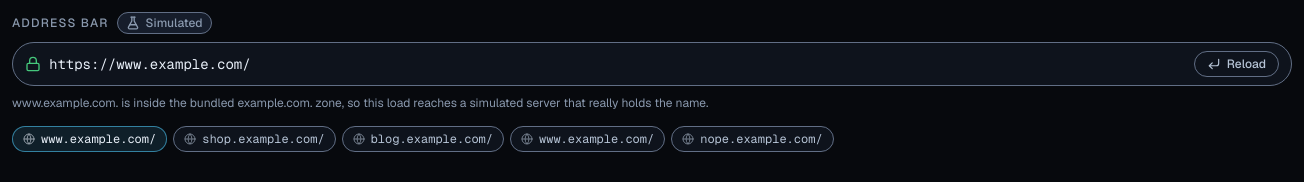
Test case: UrlBar › warns while typing that an unknown host will not resolve here
The width and height of the screenshot is (1304, 182).
In the field: (617, 64) x1=49 y1=54 x2=1186 y2=74, type "https://shop.example-store.test/"
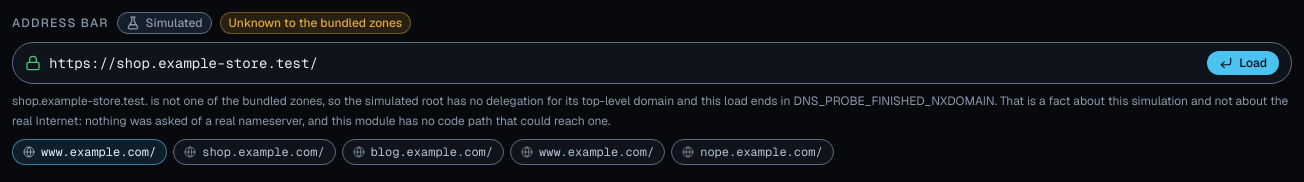
Now the text "Unknown to the bundled zones" is shown, box x1=220 y1=12 x2=411 y2=34
Now the message shows "NXDOMAIN", box x1=12 y1=93 x2=1288 y2=128
Now the message shows "not about the real Internet", box x1=12 y1=93 x2=1288 y2=128
